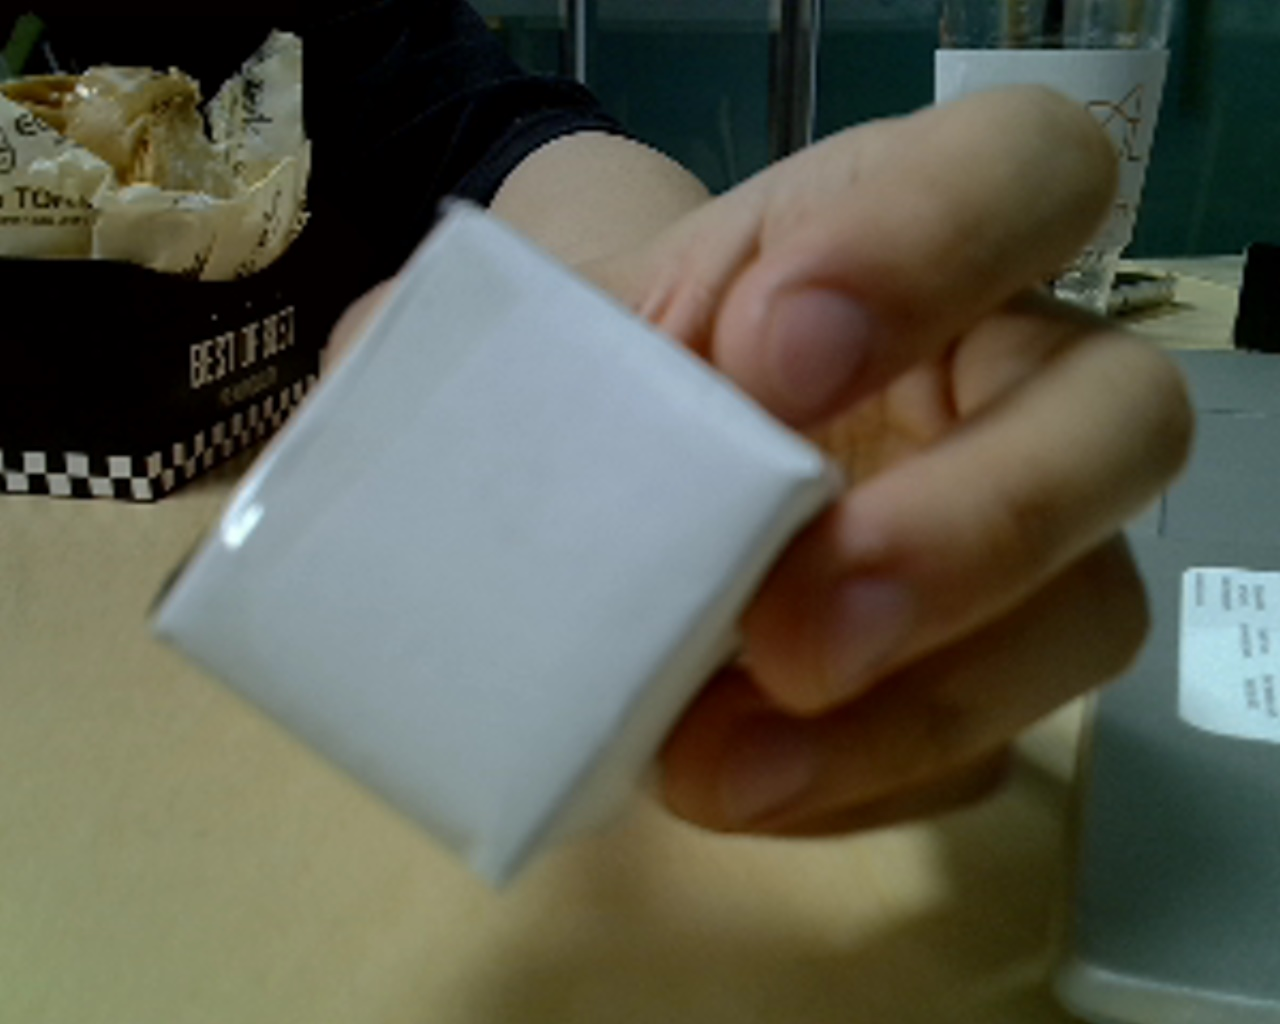whitebox: (145, 183, 897, 918)
